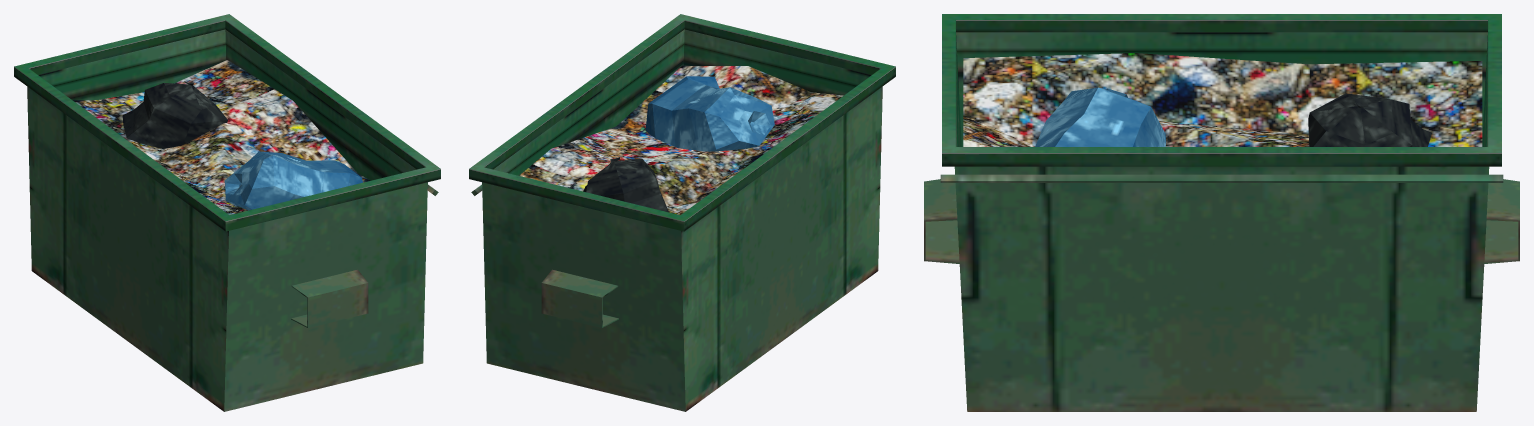
Rendered from Urban_DumpsterFullNoLid_Model.fbx.
3 views of the same model, side by side, from view 1: azimuth 30°, elevation 25°; view 2: azimuth 150°, elevation 25°; view 3: azimuth 270°, elevation 25° (orthographic). The views are drawn at different scales.
Visible parts, largest first — view 1: Urban_DumpsterFullNoLid_Mesh; view 2: Urban_DumpsterFullNoLid_Mesh; view 3: Urban_DumpsterFullNoLid_Mesh.
Boxes of the visible parts, bbox=[...] form: Urban_DumpsterFullNoLid_Mesh: bbox=[14, 14, 440, 411]; Urban_DumpsterFullNoLid_Mesh: bbox=[469, 14, 895, 411]; Urban_DumpsterFullNoLid_Mesh: bbox=[924, 14, 1519, 411].
Size of the model in its own units: 2.03 by 1.8 by 3.67.
